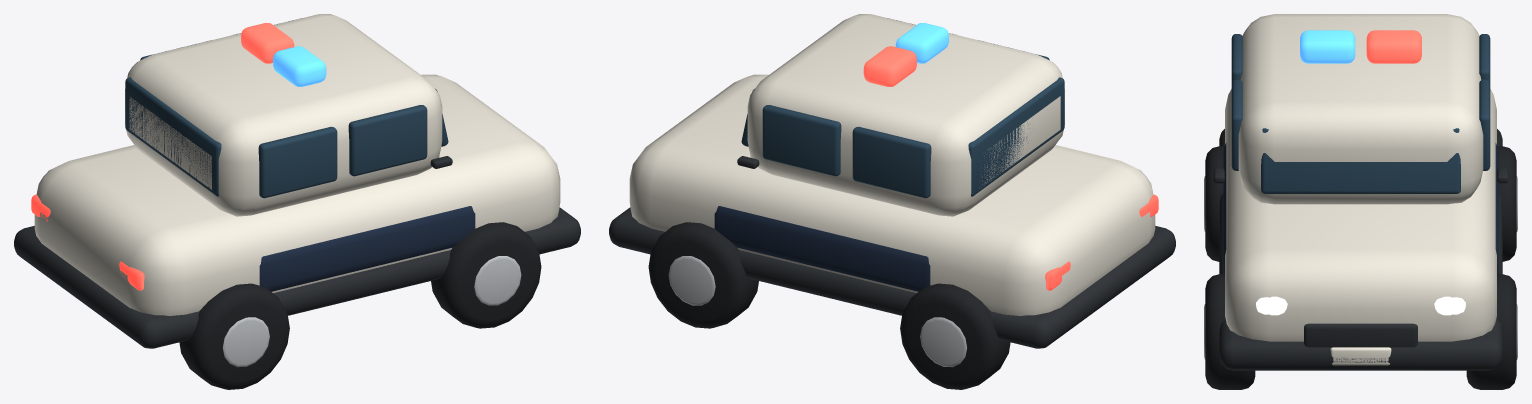
File: car_police.glb
The picture shows the model from 3 angles, left to right: view 1: azimuth 30°, elevation 25°; view 2: azimuth 150°, elevation 25°; view 3: azimuth 270°, elevation 25°; orthographic projection. The views are drawn at different scales.
Parts seen in each view (by area): view 1: car_police; view 2: car_police; view 3: car_police.
Boxes of the visible parts, left/top/right/bottom form: car_police: left=14, top=14, right=580, bottom=389; car_police: left=609, top=14, right=1175, bottom=389; car_police: left=1204, top=14, right=1517, bottom=389.
Size of the model in its own units: 1.91 by 1.11 by 1.13.
3 materials, 3 textured.
